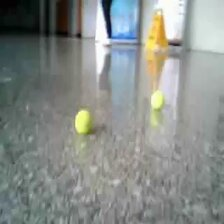tennis: (74, 110, 93, 133), (150, 92, 165, 110)
